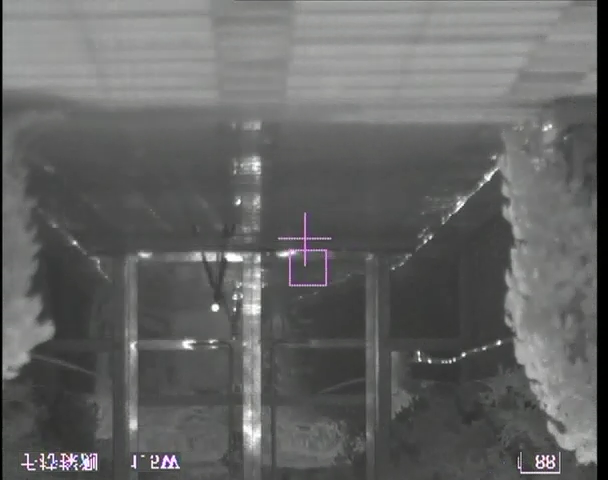my: (210, 302, 221, 314)
